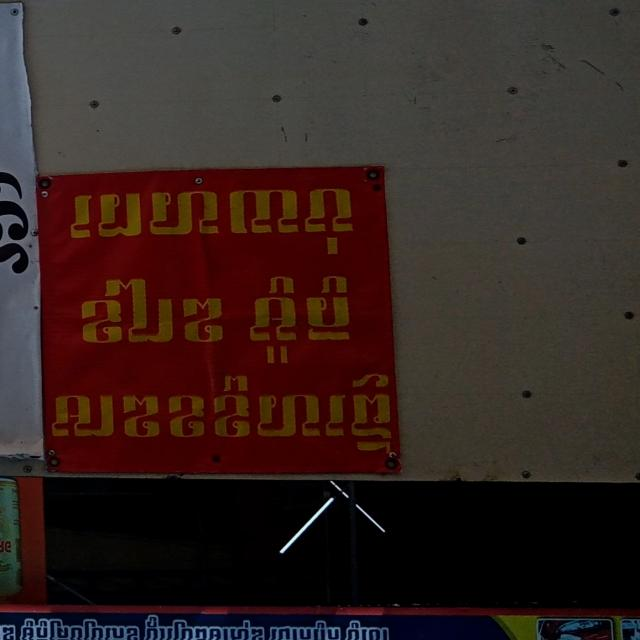1: (60, 276, 424, 362)
Yolov11_80vkh: (41, 364, 410, 454), (58, 180, 368, 257)
